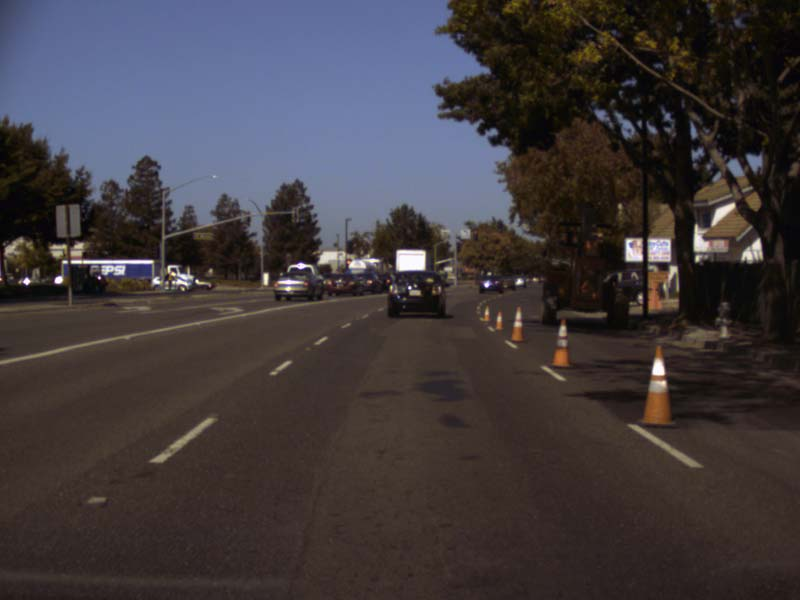Green: (497, 220, 502, 233)
Yellow: (473, 229, 478, 241)
